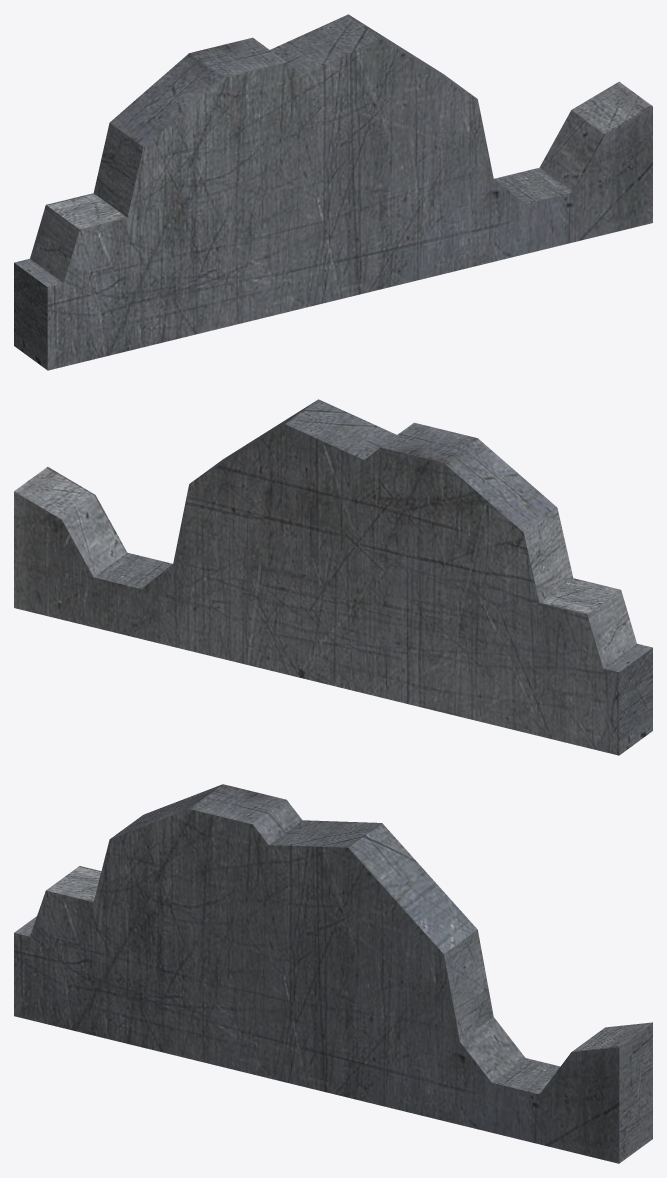
File: wall2.FBX
3 renders of one model, top to bottom at view 1: azimuth 30°, elevation 25°; view 2: azimuth 150°, elevation 25°; view 3: azimuth 330°, elevation 25°, orthographic.
Parts seen in each view (by area): view 1: Line002; view 2: Line002; view 3: Line002.
Part boxes in pixels (box(x1,y1,x2,y2)): Line002: box(14, 14, 652, 370); Line002: box(14, 399, 652, 755); Line002: box(14, 784, 652, 1163).
Size of the model in its own units: 377 by 149 by 36.5.
Materials: 1 (1 with a texture image).
